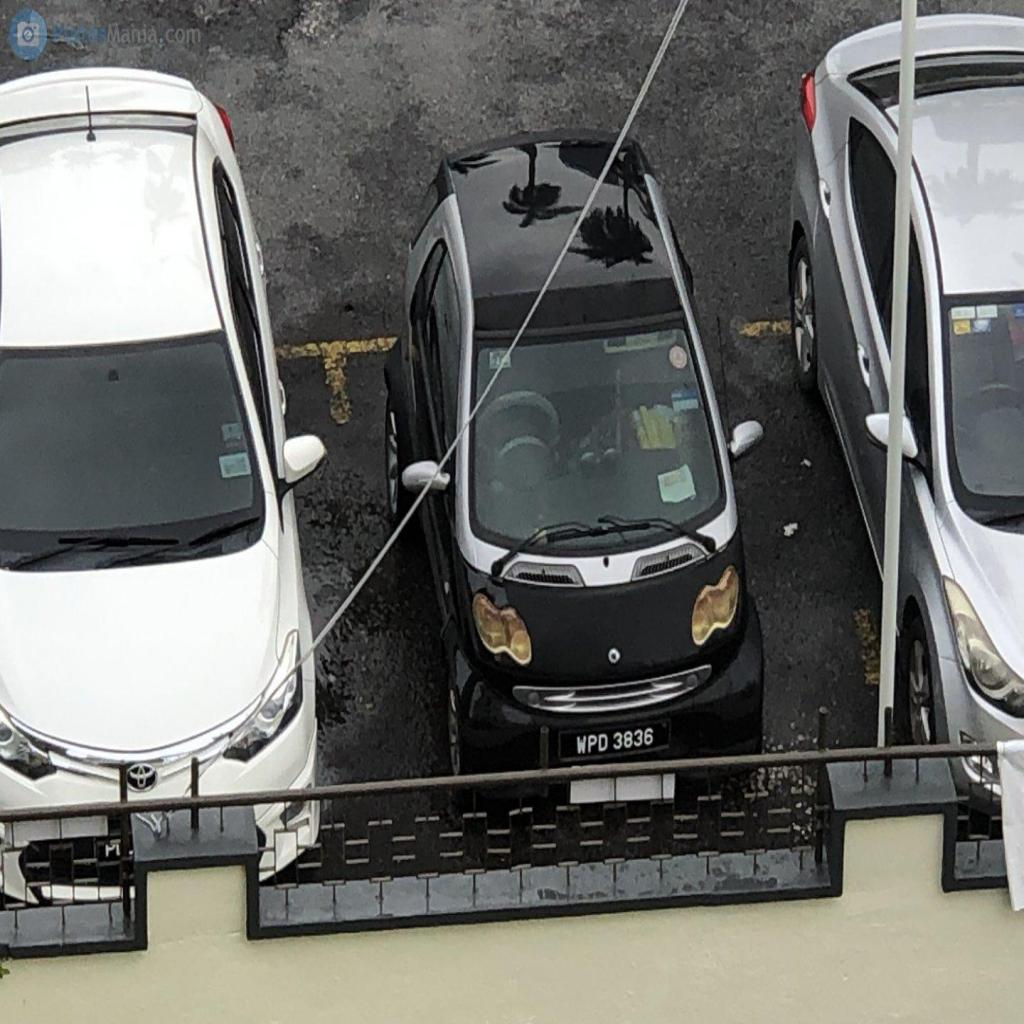car: (385, 131, 761, 771)
car plate: (558, 720, 668, 761)
